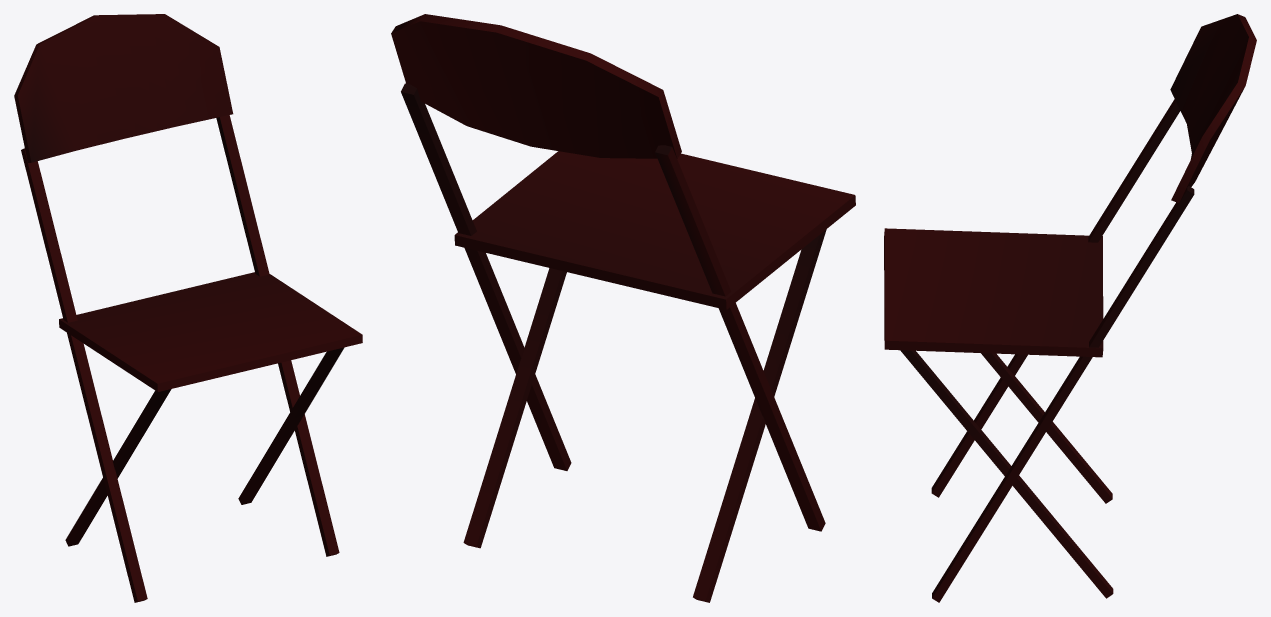
The model's file is FoldingChair.glb.
3 views of the same model, side by side, from view 1: azimuth 30°, elevation 25°; view 2: azimuth 150°, elevation 25°; view 3: azimuth 270°, elevation 25° (orthographic). The views are drawn at different scales.
Parts seen in each view (by area): view 1: FoldingChair; view 2: FoldingChair; view 3: FoldingChair.
Boxes of the visible parts, x1,y1,x2,y2 form: FoldingChair: (14,14,362,602); FoldingChair: (391,14,855,602); FoldingChair: (884,14,1256,602).
Size of the model in its own units: 2.49 by 5.35 by 3.52.
